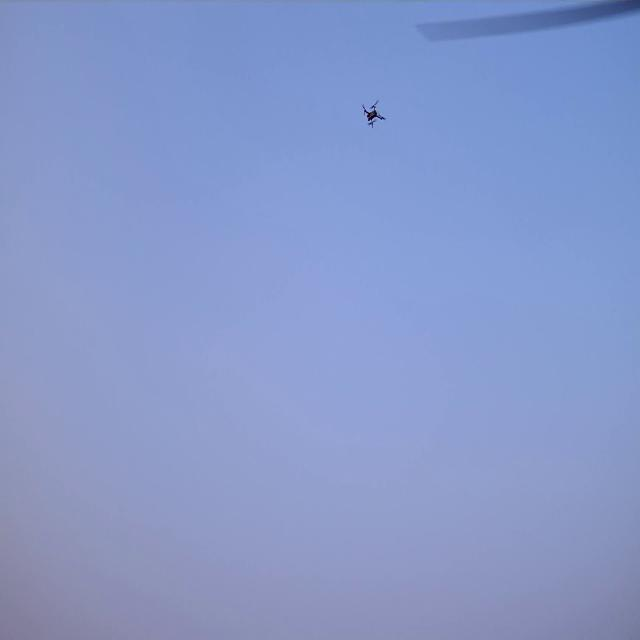UAV: (361, 96, 386, 130)
